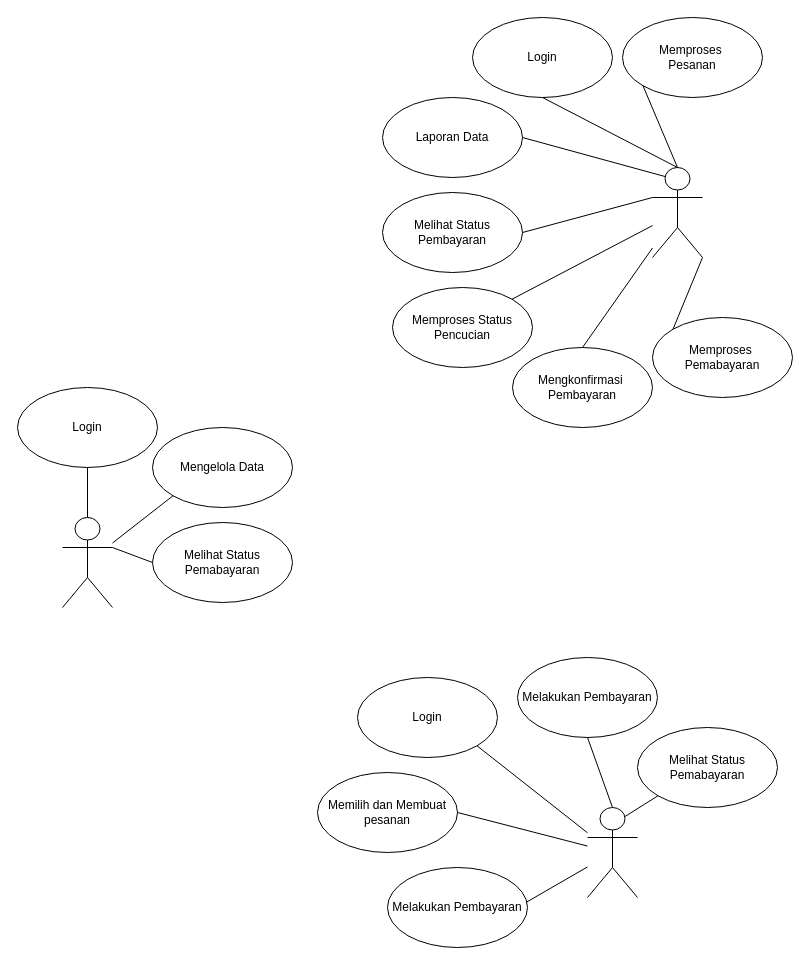
Image size: 810x965. Some labels were removed from this diagram. Here are the shapes that lost their labels. From the top down, the centre of each, then its label:
(677,212): Kasir
(87,562): Admin
(612,852): User
